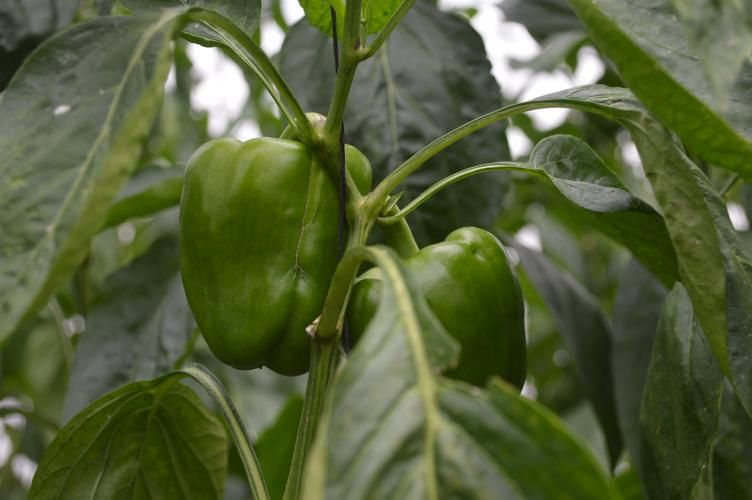BellPepper: (186, 142, 370, 377), (351, 221, 524, 392)
